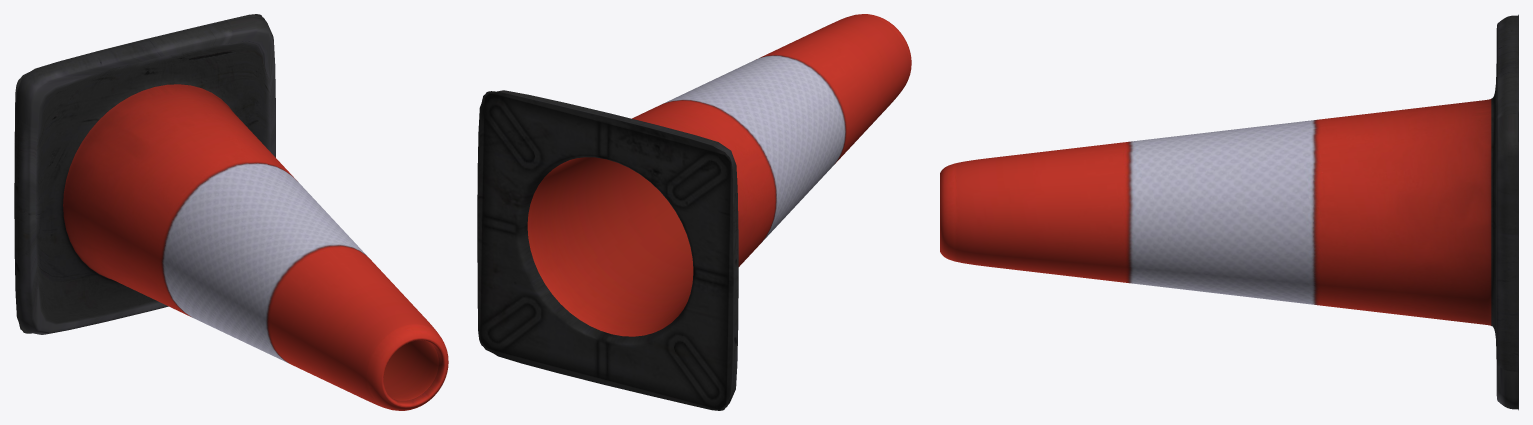
Rendered from 10572_TrafficCone_v02_L3.obj.
3 views of the same model, side by side, from view 1: azimuth 30°, elevation 25°; view 2: azimuth 150°, elevation 25°; view 3: azimuth 270°, elevation 25° (orthographic). The views are drawn at different scales.
Parts seen in each view (by area): view 1: 10572_TrafficCone_v02; view 2: 10572_TrafficCone_v02; view 3: 10572_TrafficCone_v02.
Part boxes in pixels (left/top/right/bottom): 10572_TrafficCone_v02: left=14, top=14, right=448, bottom=410; 10572_TrafficCone_v02: left=477, top=14, right=911, bottom=410; 10572_TrafficCone_v02: left=940, top=14, right=1518, bottom=410.
Size of the model in its own units: 25.5 by 25.5 by 46.77.
Materials: 2 (2 with a texture image).
